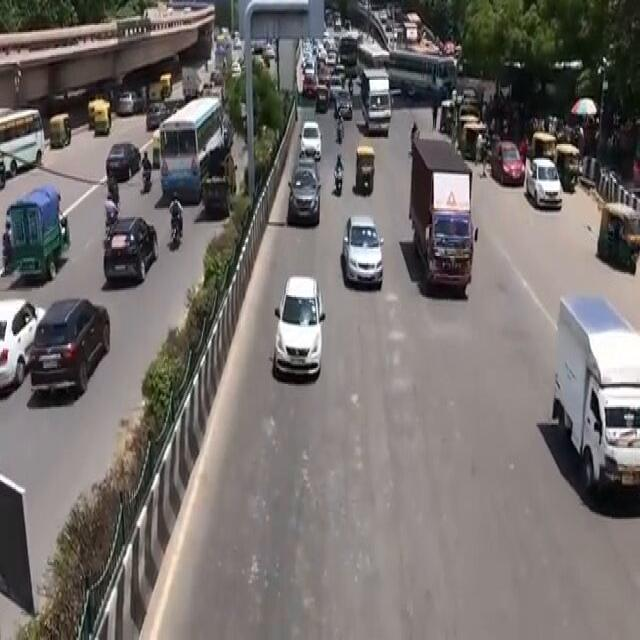three_wheeler: (350, 137, 380, 210)
